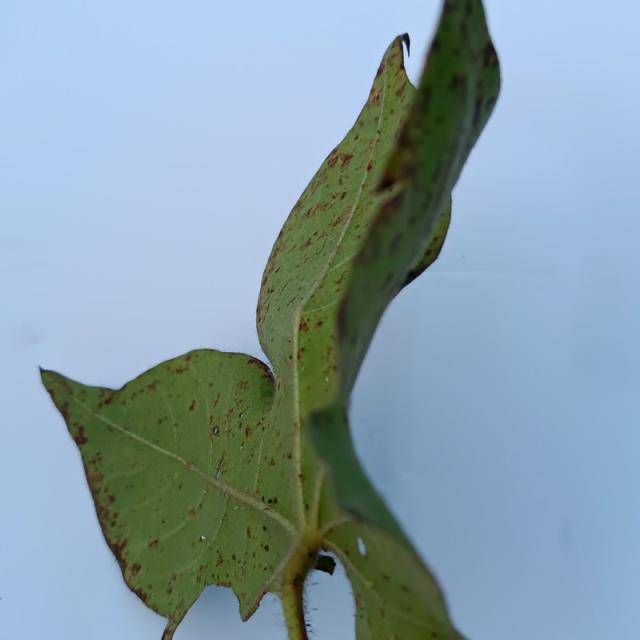Bacterial_Blight: (380, 126, 423, 191), (368, 185, 408, 230), (417, 46, 436, 88), (344, 505, 375, 530), (309, 407, 339, 432), (306, 199, 335, 220), (470, 94, 485, 129), (327, 152, 352, 172), (127, 581, 148, 604), (314, 553, 336, 574), (140, 534, 165, 552), (258, 376, 276, 401), (376, 174, 398, 194), (262, 491, 282, 512), (482, 44, 497, 71), (330, 210, 351, 229), (124, 563, 140, 587), (387, 232, 403, 254), (450, 72, 466, 93), (208, 577, 233, 590), (85, 469, 104, 486), (256, 298, 267, 326), (208, 420, 223, 439), (355, 591, 365, 619), (484, 93, 497, 114), (274, 371, 284, 394), (73, 432, 88, 446), (260, 269, 270, 290), (348, 330, 360, 347), (395, 81, 406, 99), (174, 362, 189, 375), (357, 537, 367, 556), (215, 459, 224, 479), (116, 540, 127, 556), (102, 392, 115, 405), (383, 272, 395, 286), (237, 379, 249, 392), (145, 381, 158, 392), (327, 155, 338, 168), (370, 89, 380, 103), (464, 3, 473, 18), (301, 238, 312, 250), (299, 319, 309, 332), (131, 563, 141, 576), (239, 602, 247, 618), (46, 388, 56, 400), (166, 582, 174, 595), (216, 555, 224, 567), (188, 400, 196, 412), (366, 160, 374, 172), (244, 426, 252, 438), (400, 584, 409, 594), (188, 507, 197, 517), (297, 348, 304, 360), (267, 287, 275, 296), (268, 458, 276, 467), (246, 526, 252, 538), (107, 494, 115, 503), (424, 249, 432, 257), (315, 320, 323, 328), (188, 463, 195, 472), (298, 472, 304, 482), (286, 452, 293, 460), (274, 266, 281, 274), (272, 597, 280, 604), (231, 553, 237, 562), (305, 501, 310, 511), (430, 635, 440, 640), (389, 635, 399, 640), (173, 471, 178, 481), (263, 544, 269, 552), (353, 133, 359, 141), (377, 125, 382, 134), (308, 551, 314, 558), (255, 487, 261, 494), (200, 534, 206, 541), (238, 422, 243, 430), (259, 418, 264, 426), (300, 365, 305, 373), (306, 624, 312, 630), (223, 492, 228, 499), (311, 607, 319, 611), (262, 525, 267, 531), (288, 354, 293, 360), (239, 413, 244, 419), (161, 518, 166, 524), (325, 376, 329, 383), (313, 231, 318, 236), (239, 445, 244, 450), (263, 564, 267, 569), (234, 506, 239, 510), (280, 313, 284, 318), (204, 490, 208, 494), (245, 485, 248, 490)
Cotton: (41, 0, 498, 639)
